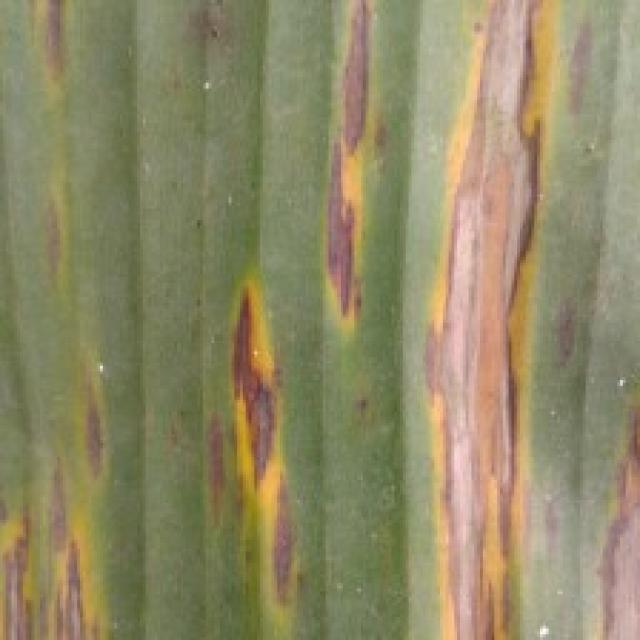Early_leaf_spot: (423, 0, 570, 637), (0, 327, 151, 640), (186, 272, 314, 632), (284, 0, 399, 334), (550, 362, 640, 632), (10, 0, 81, 134), (18, 180, 89, 310)
